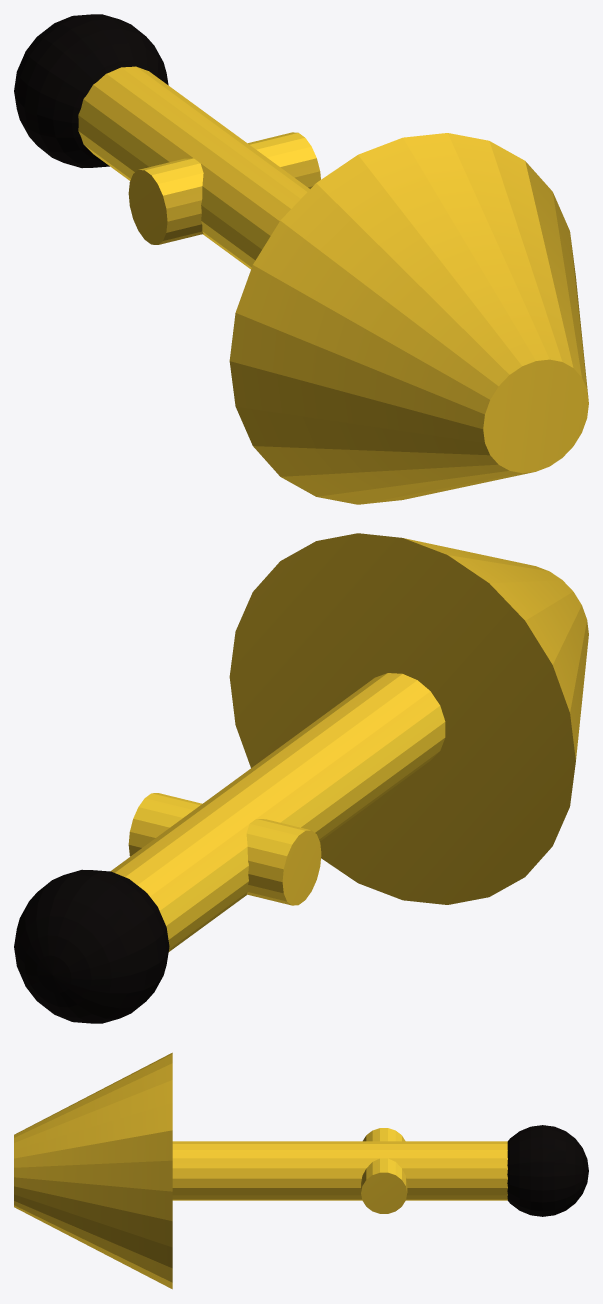
The model's file is instrumento.obj.
3 renders of one model, top to bottom at view 1: azimuth 30°, elevation 25°; view 2: azimuth 150°, elevation 25°; view 3: azimuth 270°, elevation 25°, orthographic. The views are drawn at different scales.
Parts seen in each view (by area): view 1: instrumento; view 2: instrumento; view 3: instrumento.
Boxes of the visible parts, box(x1,y1,x2,y2) form: instrumento: box(14, 14, 588, 504); instrumento: box(14, 533, 588, 1023); instrumento: box(14, 1052, 588, 1289).
Size of the model in its own units: 0.36 by 0.36 by 0.87.
Materials: 2 (2 with a texture image).
